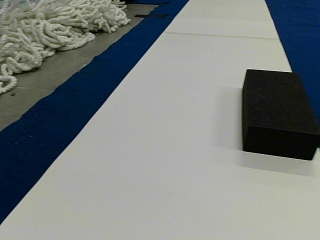block: (242, 69, 318, 160)
